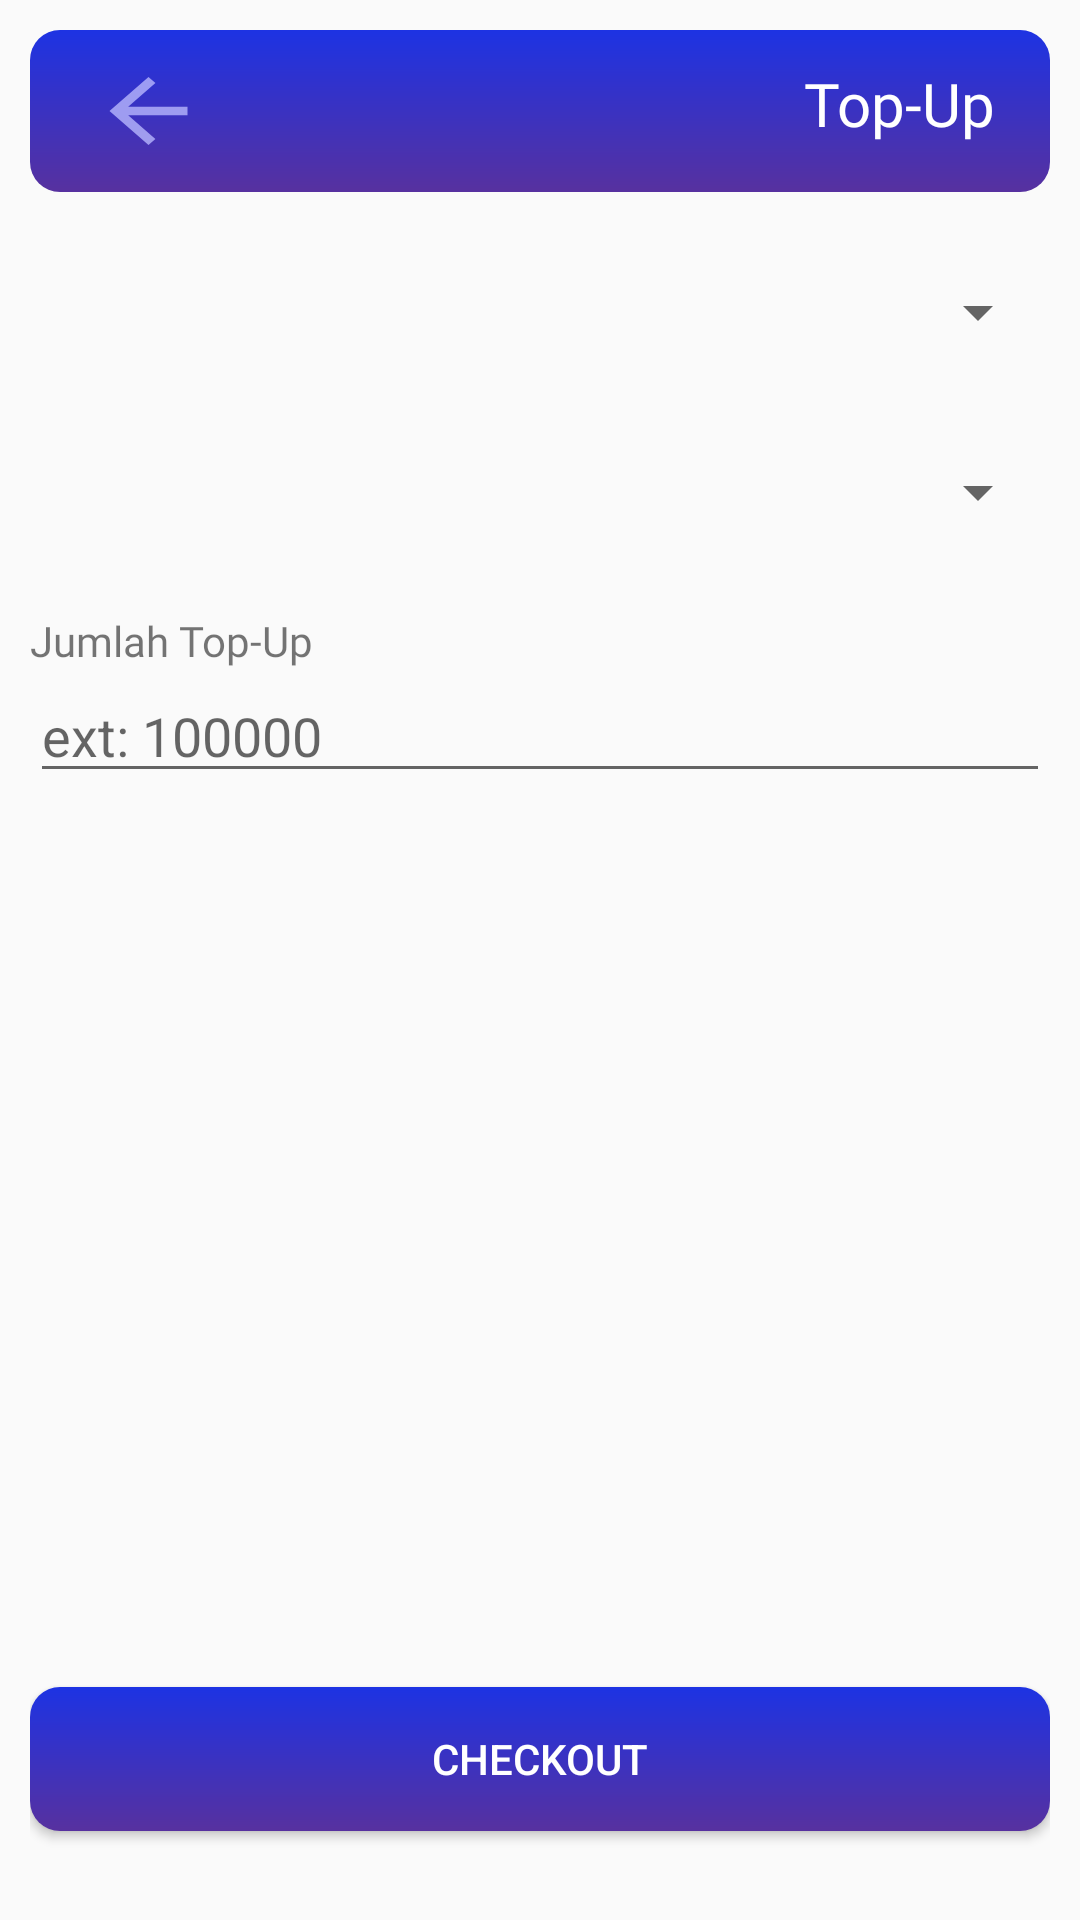

Icon click points for this 1080 × 1920 phone screenshot, format (x=x, y=y):
search back: (x=148, y=111)
